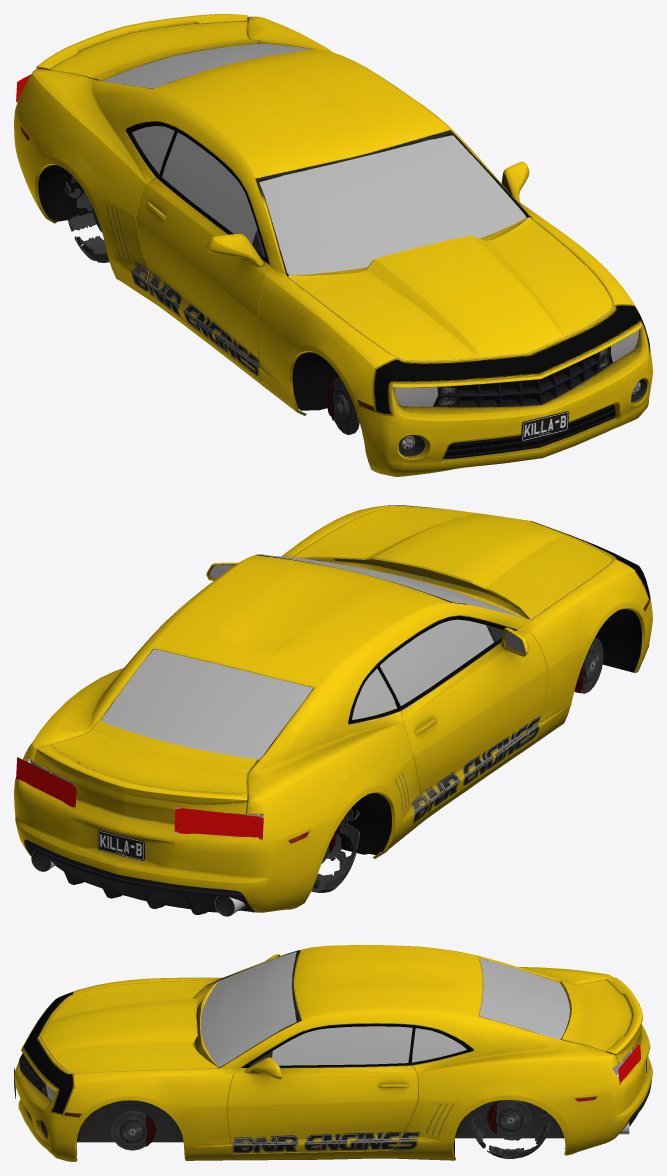
Rendered from 33_KillaBCamaro.fbx.
The picture shows the model from 3 angles, top to bottom: view 1: azimuth 30°, elevation 25°; view 2: azimuth 150°, elevation 25°; view 3: azimuth 270°, elevation 25°; orthographic projection. The views are drawn at different scales.
Parts seen in each view (by area): view 1: body_duco, body_glass, body_kit_00, body_matte, body_glossy, Rotor, NumberPlate_Front; view 2: body_duco, body_glass, body_kit_00, body_glossy, body_matte, BrakeLights, NumberPlate, Rotor; view 3: body_duco, body_glass, body_kit_00, body_matte, Rotor (×2), body_glossy, BrakeLights.
Boxes of the visible parts, x1,y1,x2,y2 form: body_duco: (14, 14, 652, 476); body_glass: (102, 43, 639, 406); body_kit_00: (287, 217, 612, 360); body_matte: (38, 43, 645, 458); body_glossy: (54, 122, 641, 450); Rotor: (333, 378, 359, 434); NumberPlate_Front: (521, 411, 569, 441); body_duco: (14, 505, 652, 912); body_glass: (30, 555, 521, 816); body_kit_00: (293, 507, 612, 619); body_glossy: (24, 564, 525, 914); body_matte: (31, 602, 641, 916); BrakeLights: (16, 757, 263, 840); NumberPlate: (97, 830, 144, 860); Rotor: (580, 638, 603, 693); body_duco: (14, 945, 652, 1161); body_glass: (45, 951, 630, 1100); body_kit_00: (40, 979, 219, 1073); body_matte: (24, 1016, 564, 1159); Rotor (×2): (111, 1100, 531, 1150); body_glossy: (19, 956, 651, 1148); BrakeLights: (618, 1004, 641, 1085).
Size of what is drawn, in the model's own units: 2.09 by 1.28 by 4.83.
